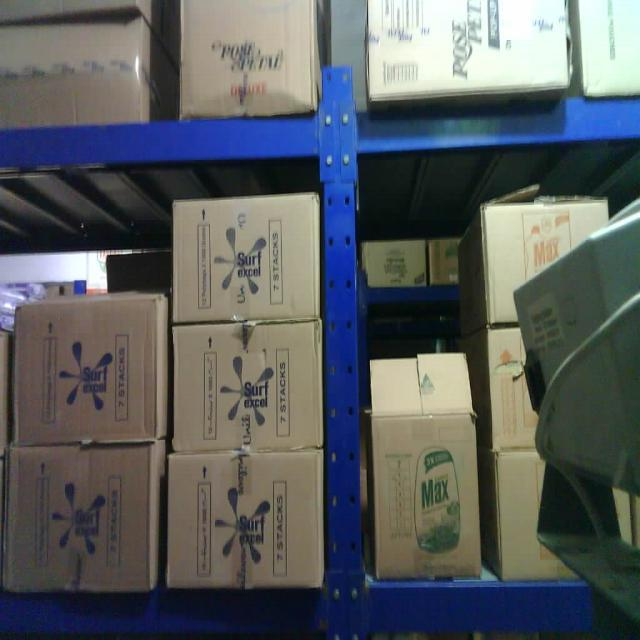cardboxes: (368, 358, 482, 582), (0, 442, 156, 598), (164, 448, 328, 594), (12, 298, 162, 447), (364, 0, 572, 101), (171, 320, 324, 452), (168, 196, 322, 326), (0, 6, 149, 132), (477, 198, 613, 328), (177, 0, 319, 121), (493, 451, 554, 578), (486, 328, 538, 449)
